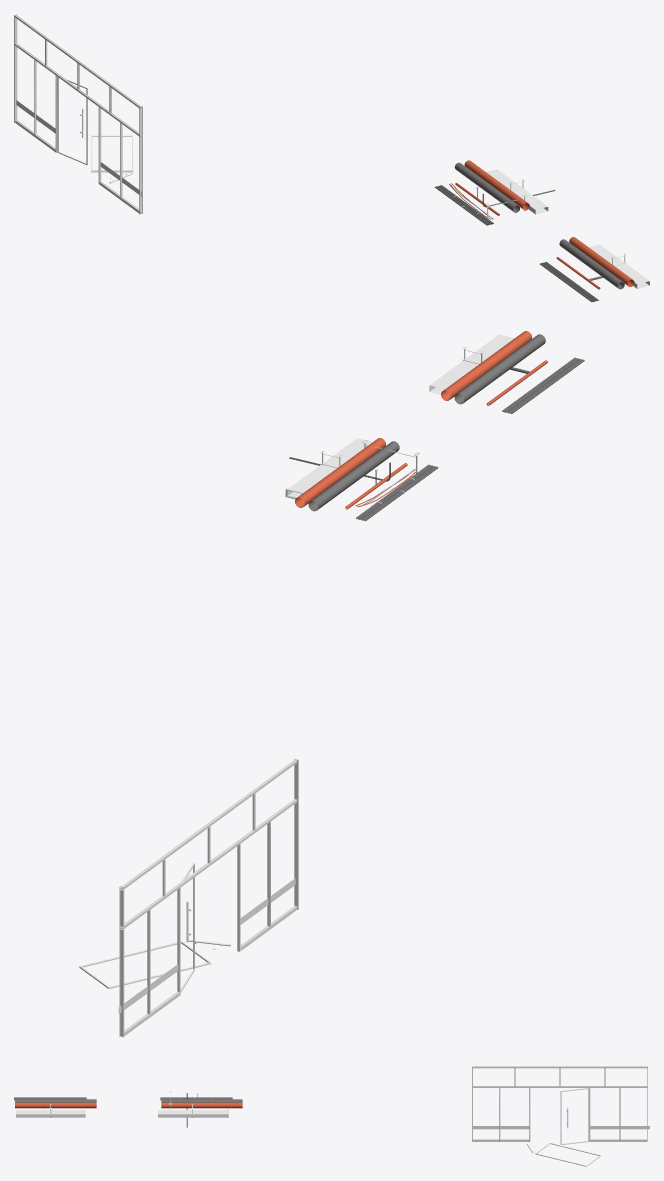
The picture shows the model from 3 angles, top to bottom: view 1: azimuth 30°, elevation 25°; view 2: azimuth 150°, elevation 25°; view 3: azimuth 270°, elevation 25°; orthographic projection. The views are drawn at different scales.
Visible parts, largest first — view 1: SM_H_Building_FutureTech_HBlack_01_InterWall_03B; view 2: SM_H_Building_FutureTech_HBlack_01_InterWall_03B; view 3: SM_H_Building_FutureTech_HBlack_01_InterWall_03B.
Boxes of the visible parts, x1,y1,x2,y2 form: SM_H_Building_FutureTech_HBlack_01_InterWall_03B: (14, 14, 649, 302); SM_H_Building_FutureTech_HBlack_01_InterWall_03B: (79, 331, 584, 1037); SM_H_Building_FutureTech_HBlack_01_InterWall_03B: (14, 1066, 649, 1166).
Size of the model in its own units: 952 by 255 by 158.
